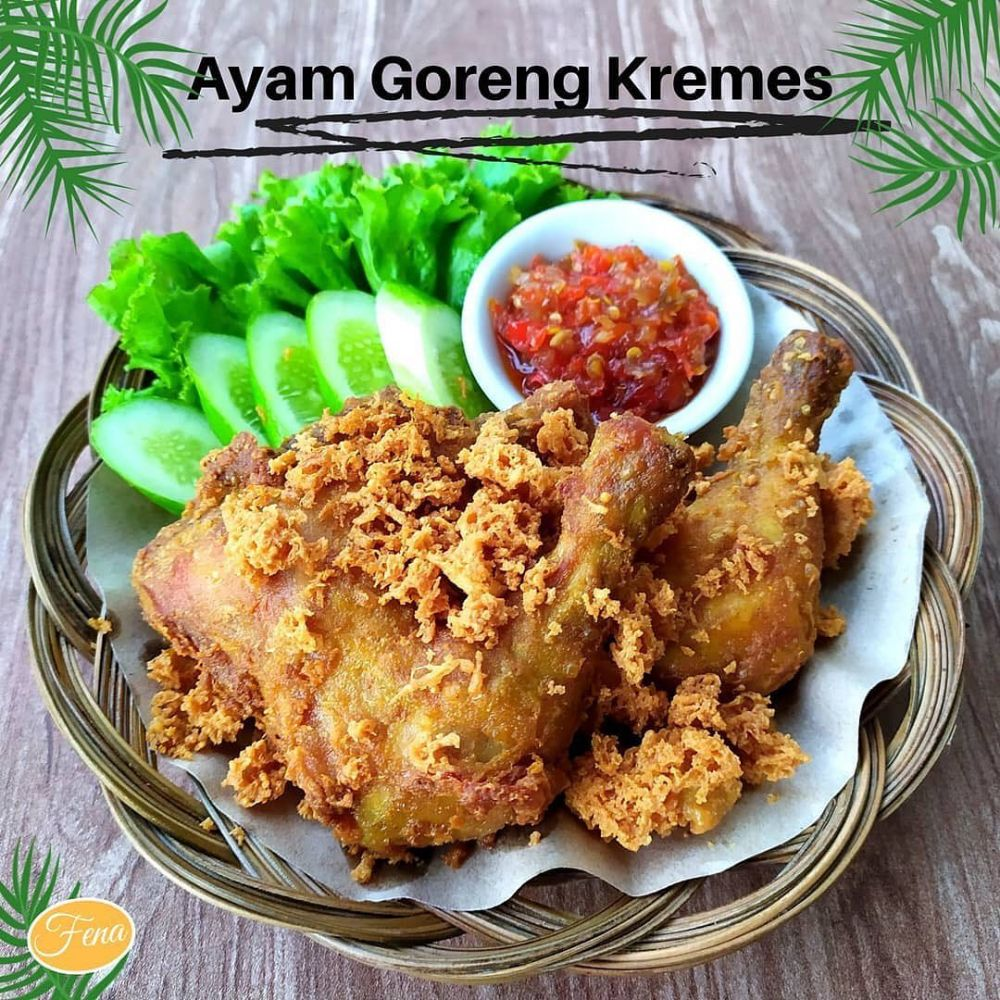Ayam: (168, 386, 675, 852), (648, 332, 892, 700)
